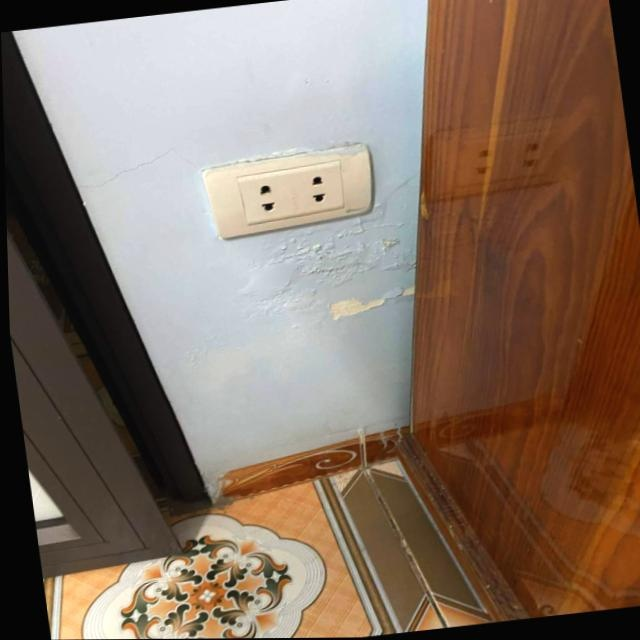outlet: (197, 139, 380, 241)
